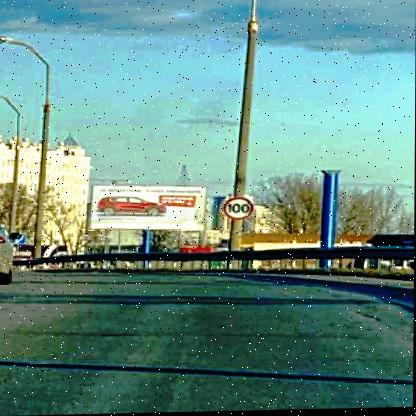Speed Limit -100-: (220, 196, 257, 225)
